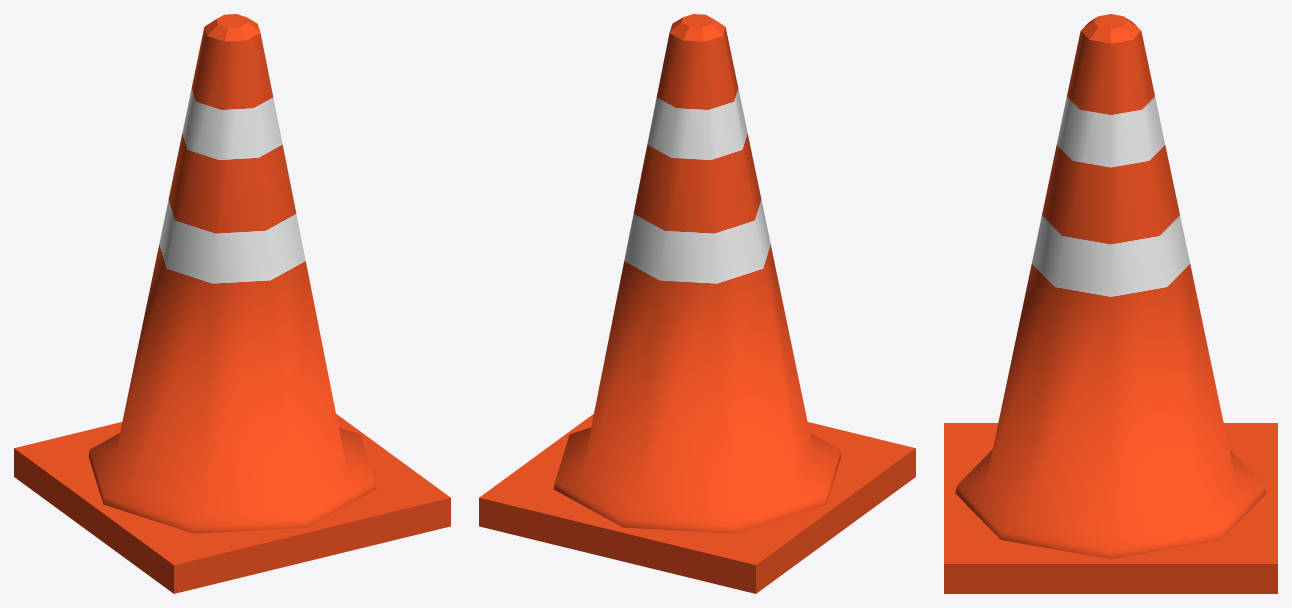
3 views of the same model, side by side, from view 1: azimuth 30°, elevation 25°; view 2: azimuth 150°, elevation 25°; view 3: azimuth 270°, elevation 25° (orthographic). The views are drawn at different scales.
Parts seen in each view (by area): view 1: Cylinder001; view 2: Cylinder001; view 3: Cylinder001.
Part boxes in pixels (<box>): Cylinder001: <box>14,14,450,593</box>; Cylinder001: <box>479,14,915,593</box>; Cylinder001: <box>944,14,1277,593</box>.
Size of the model in its own units: 52.33 by 86.87 by 52.33.
Materials: 1 (1 with a texture image).
